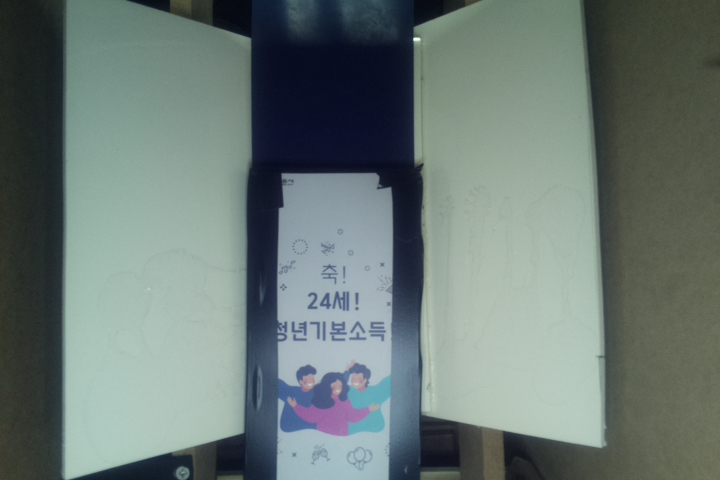book: (247, 156, 421, 480)
